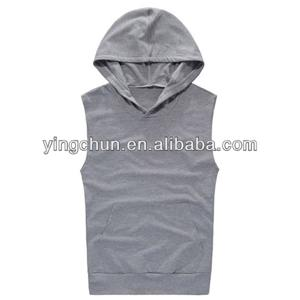C_vest: (76, 3, 225, 297)
